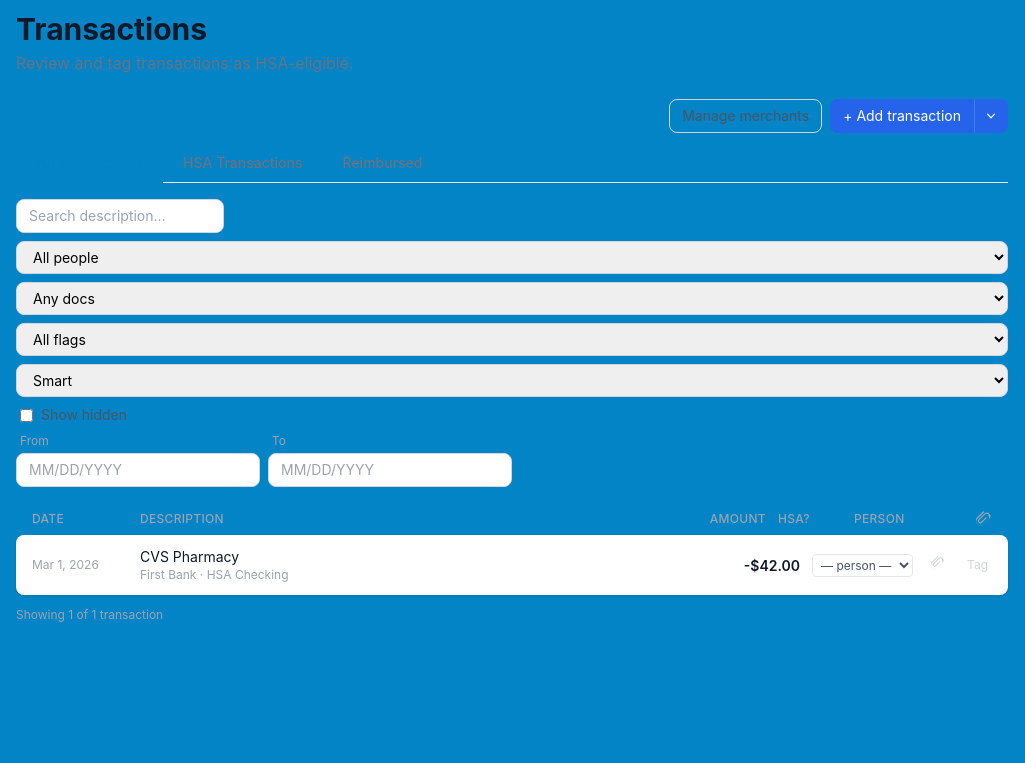
Test: Transactions page › category filter › shows auto-promoted label when category has high HSA rate
Expected: the text "CVS Pharmacy" is shown, left=140, top=548, right=239, bottom=565
Select "Shopping" in the 4th dropdown showing "Smart" at (512, 380), box left=16, top=364, right=1008, bottom=397
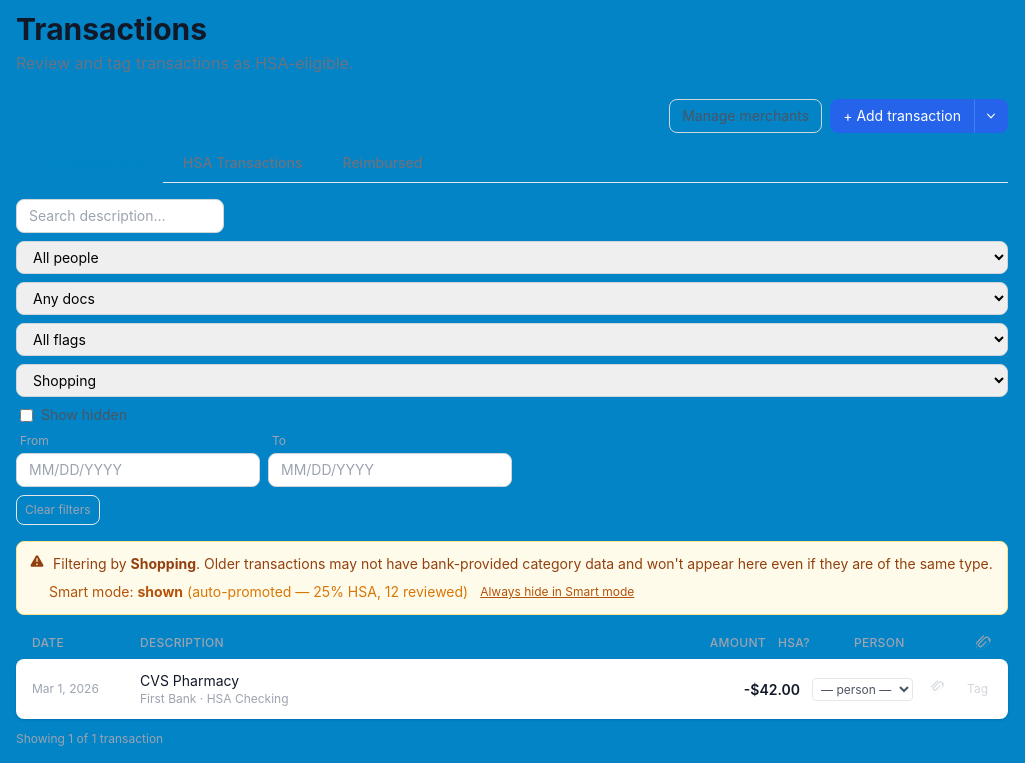
Result: the text "(auto-promoted — 25% HSA, 12 reviewed)" is shown at left=187, top=583, right=468, bottom=600
